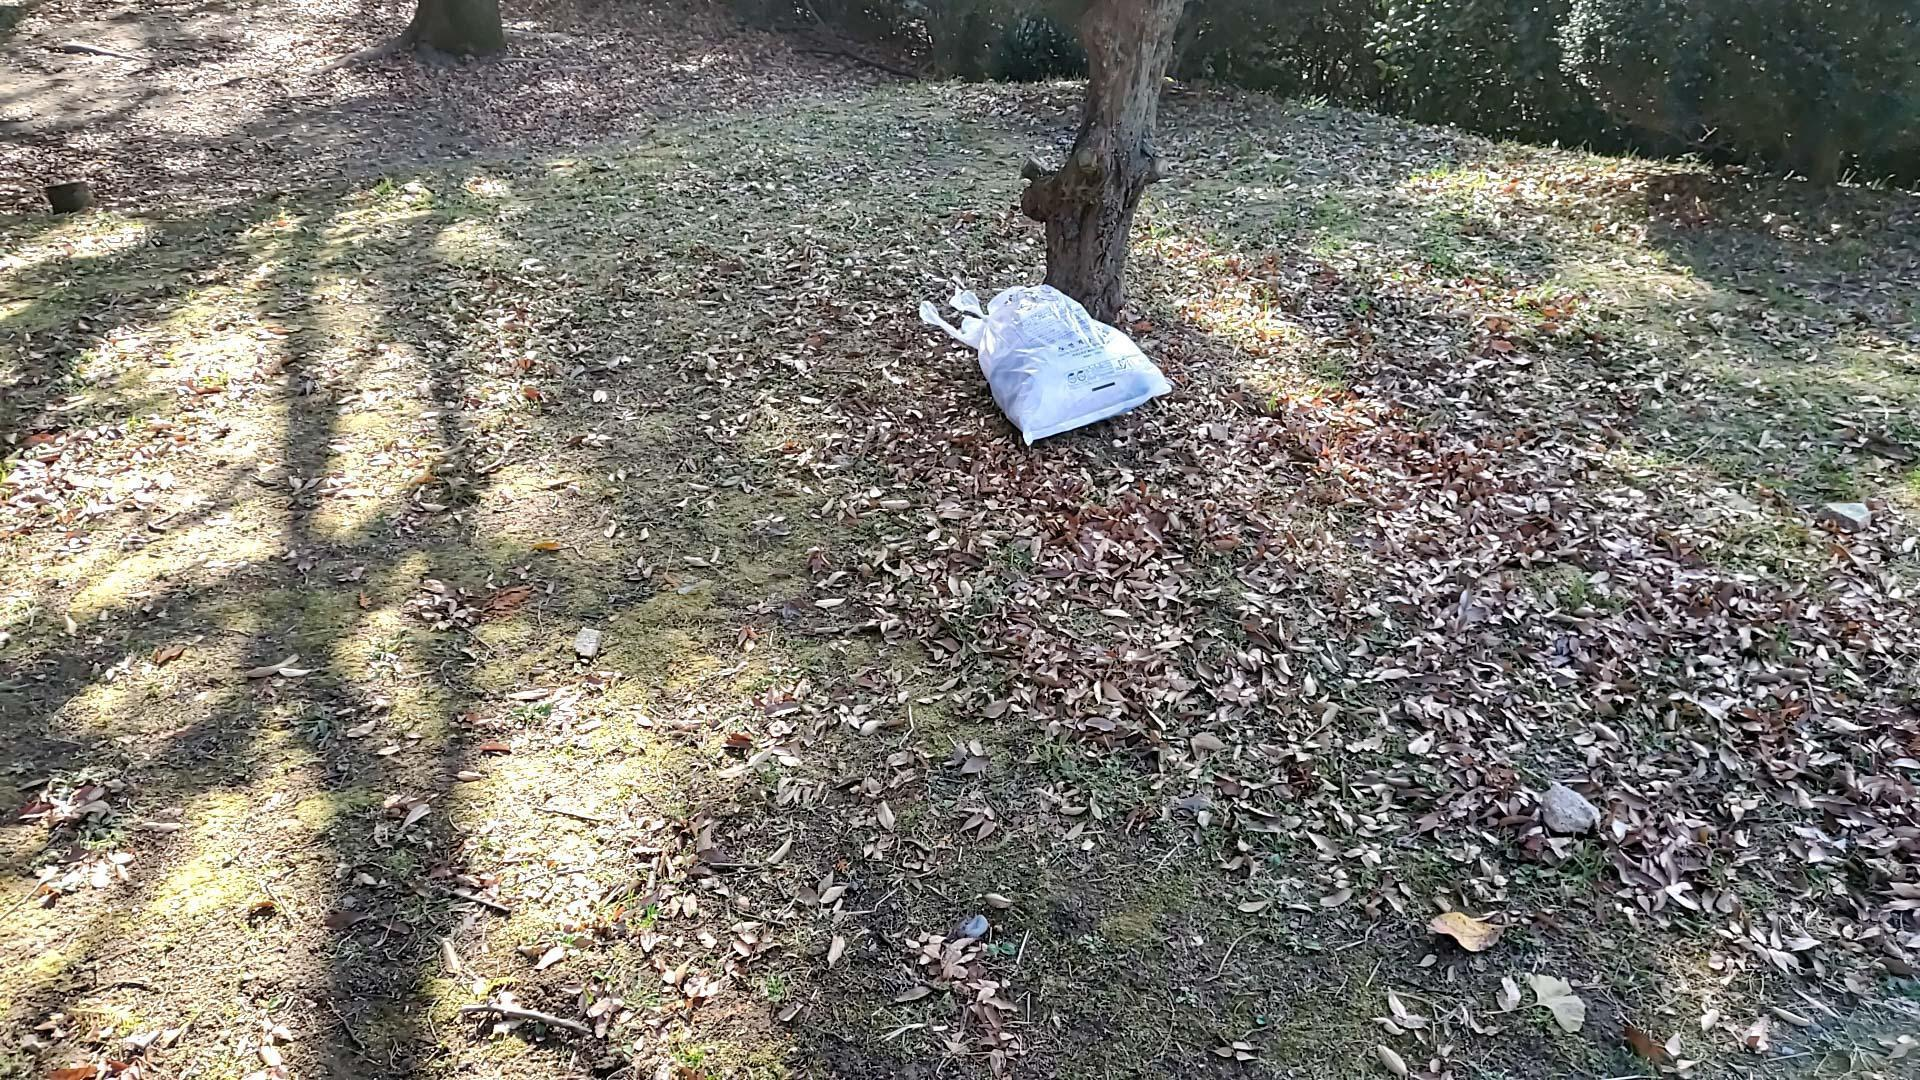white_bag: (894, 270, 1182, 458)
